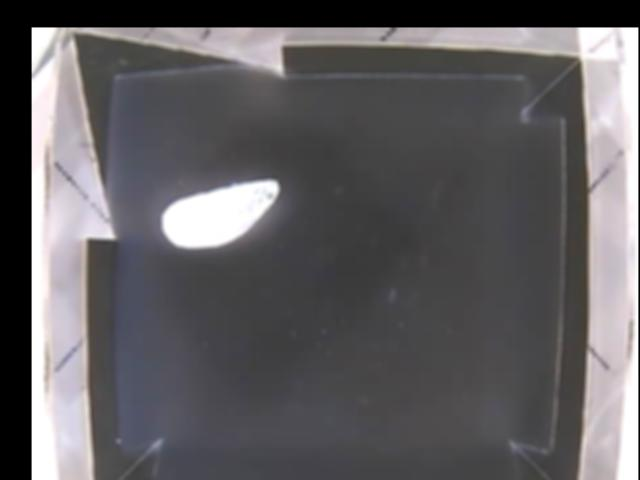Shell: (161, 178, 281, 249)
